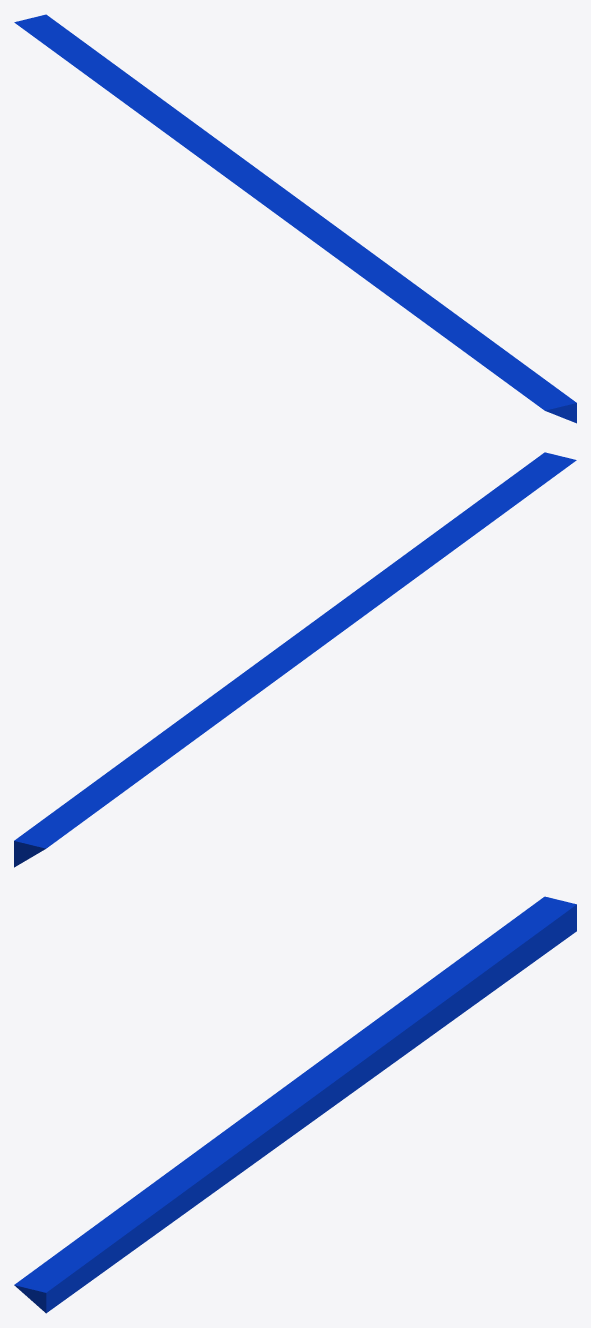
3 renders of one model, top to bottom at view 1: azimuth 30°, elevation 25°; view 2: azimuth 150°, elevation 25°; view 3: azimuth 330°, elevation 25°, orthographic.
Bounding box in the file's own units: 0.2623 × 0.2086 × 7.47.
